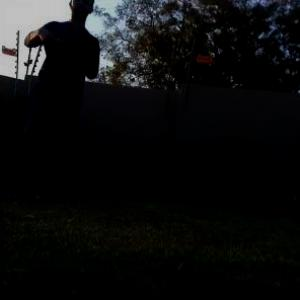follow: (0, 0, 101, 205)
